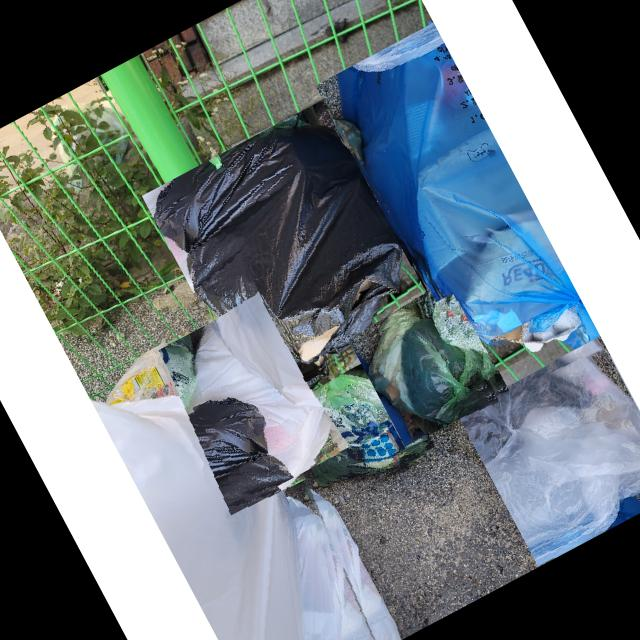general_trashbag: (310, 363, 433, 481), (368, 314, 479, 422)
other_trashbag: (339, 44, 609, 359), (93, 394, 379, 640), (156, 127, 404, 391), (459, 352, 640, 560), (190, 325, 332, 477)
